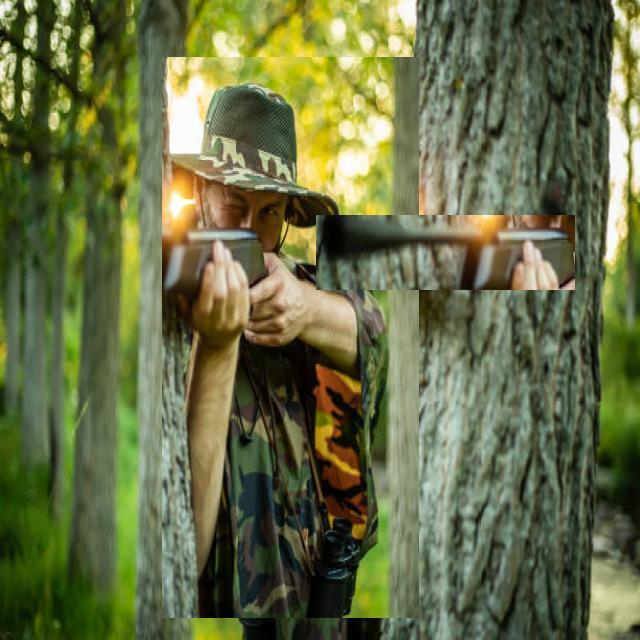ranger: (200, 58, 408, 616)
